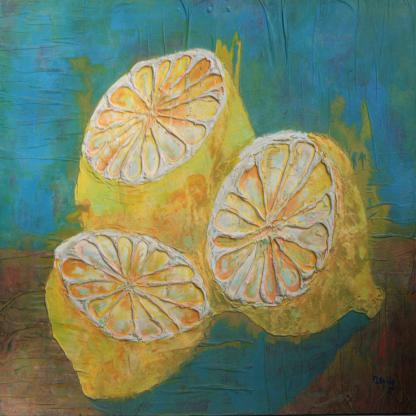Lemon: (74, 48, 248, 257), (206, 131, 385, 334), (43, 231, 206, 397)
Orange: (81, 50, 256, 274), (209, 136, 373, 320), (46, 233, 218, 400)
